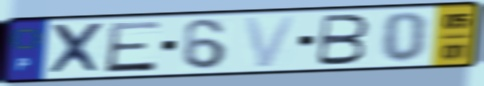0: (379, 10, 431, 65)
6: (180, 17, 231, 72)
B: (313, 13, 373, 67)
E: (102, 19, 164, 75)
V: (241, 14, 300, 70)
X: (46, 21, 107, 77)
